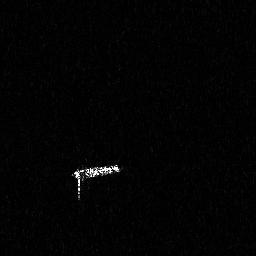ship: (69, 161, 122, 201)
